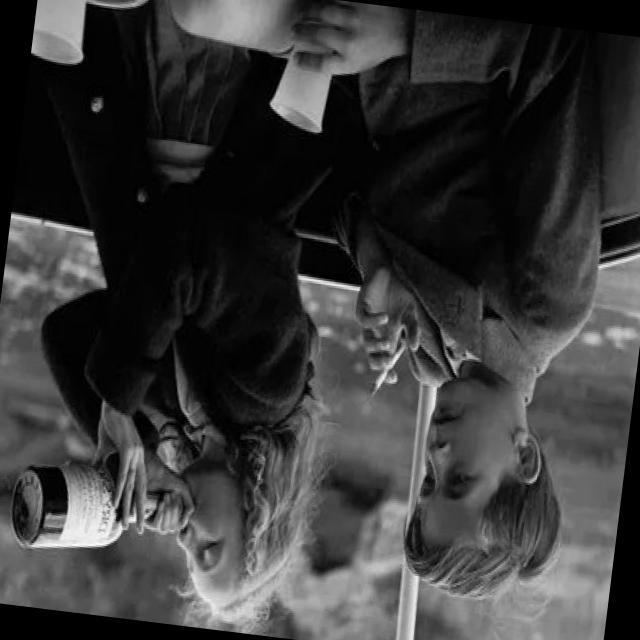cigarette: (368, 329, 412, 405)
